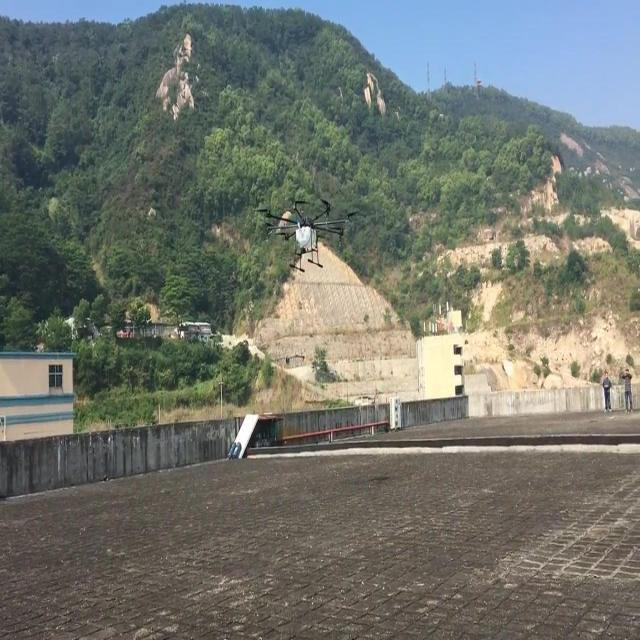UAV: (253, 199, 359, 273)
